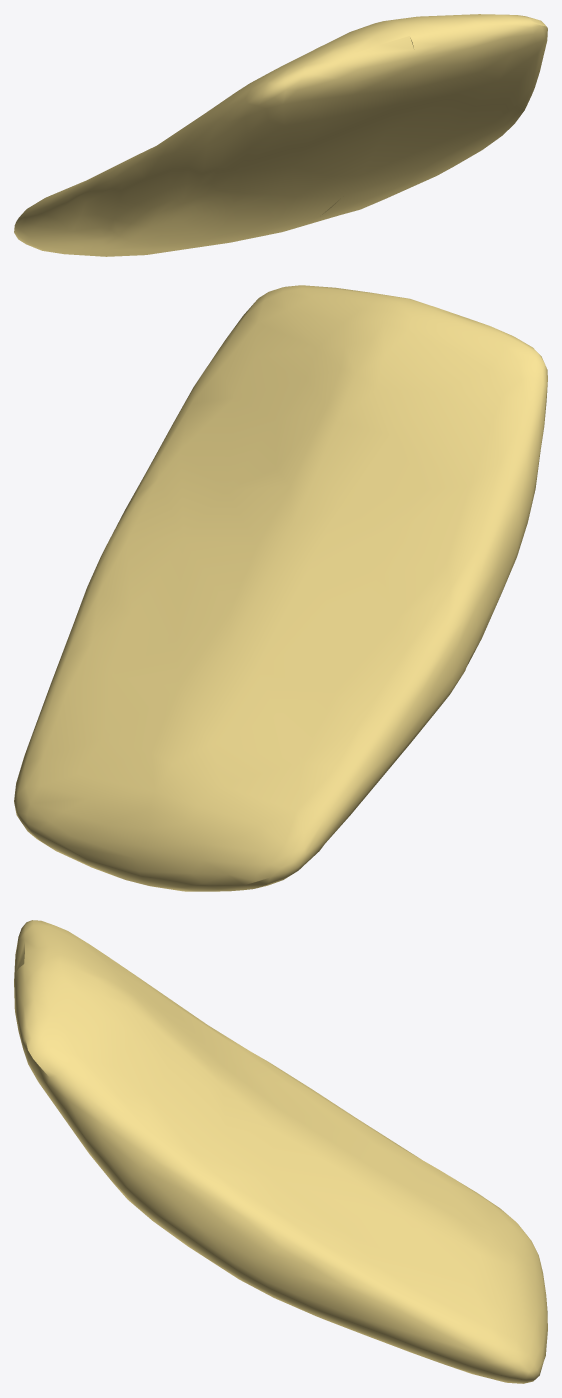
The model's file is fma83884_mm3216.glb.
3 renders of one model, top to bottom at view 1: azimuth 30°, elevation 25°; view 2: azimuth 150°, elevation 25°; view 3: azimuth 270°, elevation 25°, orthographic. The views are drawn at different scales.
Parts seen in each view (by area): view 1: FMA83884_MM3216; view 2: FMA83884_MM3216; view 3: FMA83884_MM3216.
Part boxes in pixels (<box>): FMA83884_MM3216: <box>14,14,547,256</box>; FMA83884_MM3216: <box>14,285,547,891</box>; FMA83884_MM3216: <box>14,920,547,1383</box>.
Size of the model in its own units: 0.00943 by 0.0101 by 0.0125.
